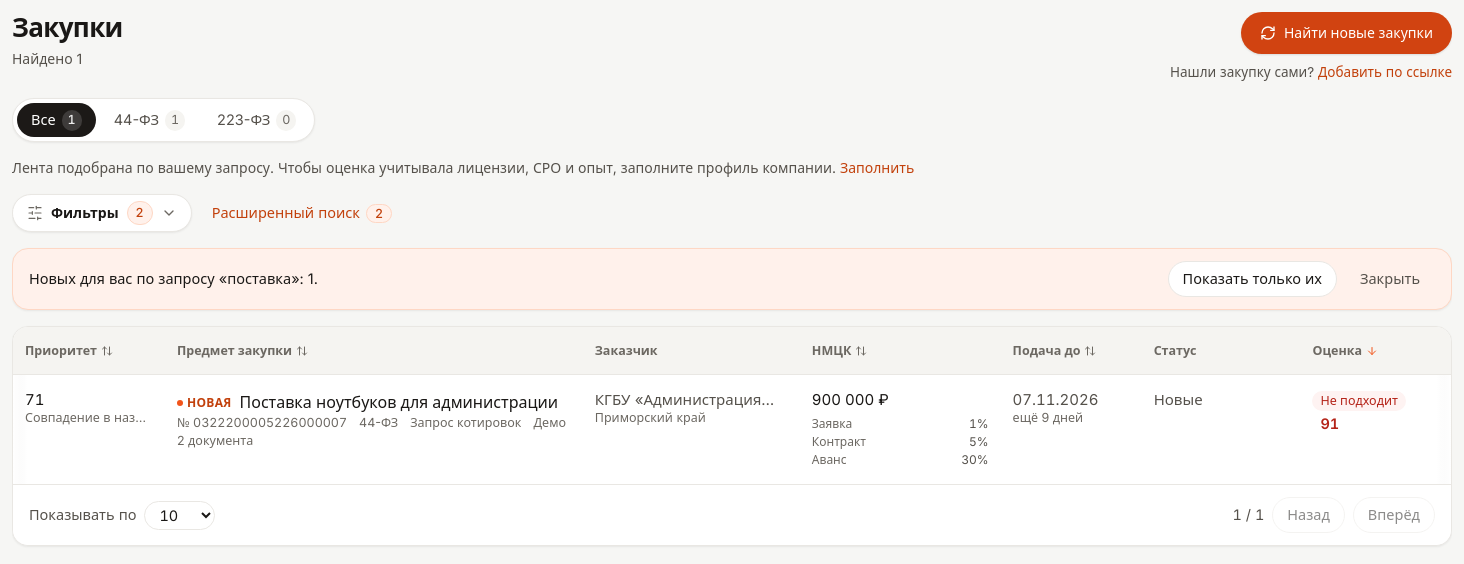
Test: TendersView — профиль поиска применяется к ленте › результат последнего поиска виден сразу и первым, но только в регионе профиля
Check: the message with test id "last-search-banner" shows "Новых для вас по запросу «поставка»: 1", box [29,270,318,287]
Click the button "Показать только их": coordinates (1252, 279) [1168,261,1337,297]
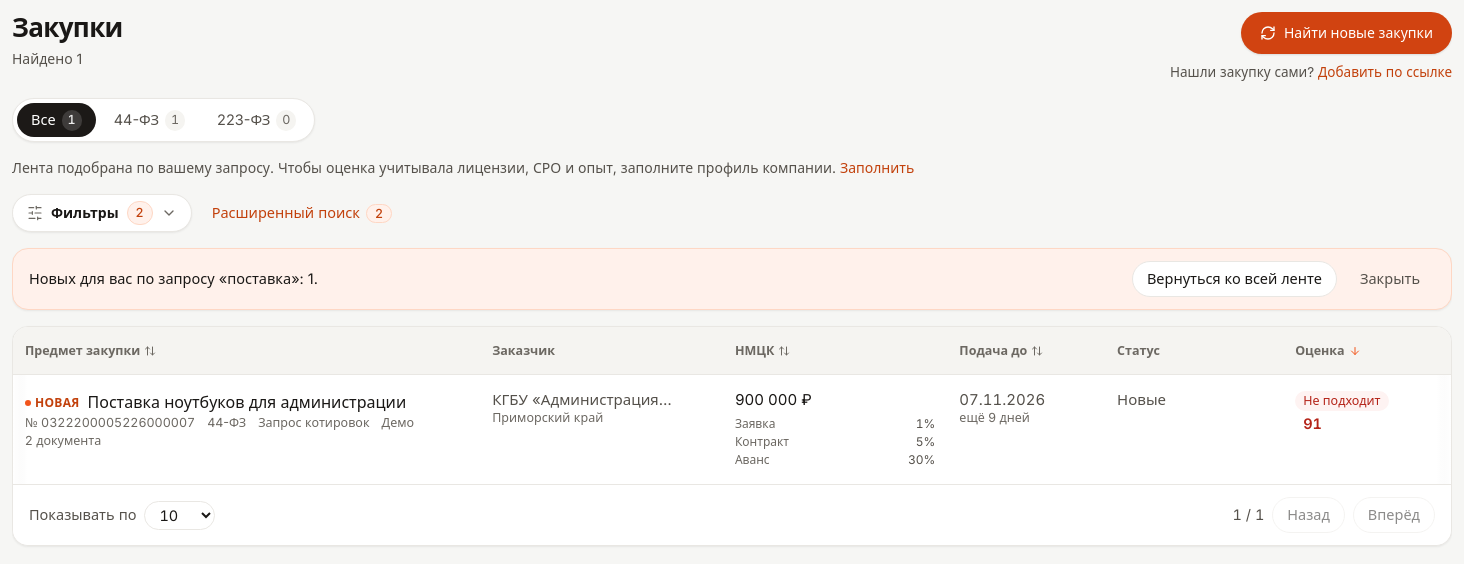
Check: the text "Найдено 1" is shown, box [12,48,82,68]
Click the button "Закрыть": coordinates (1390, 279) [1345,261,1435,297]
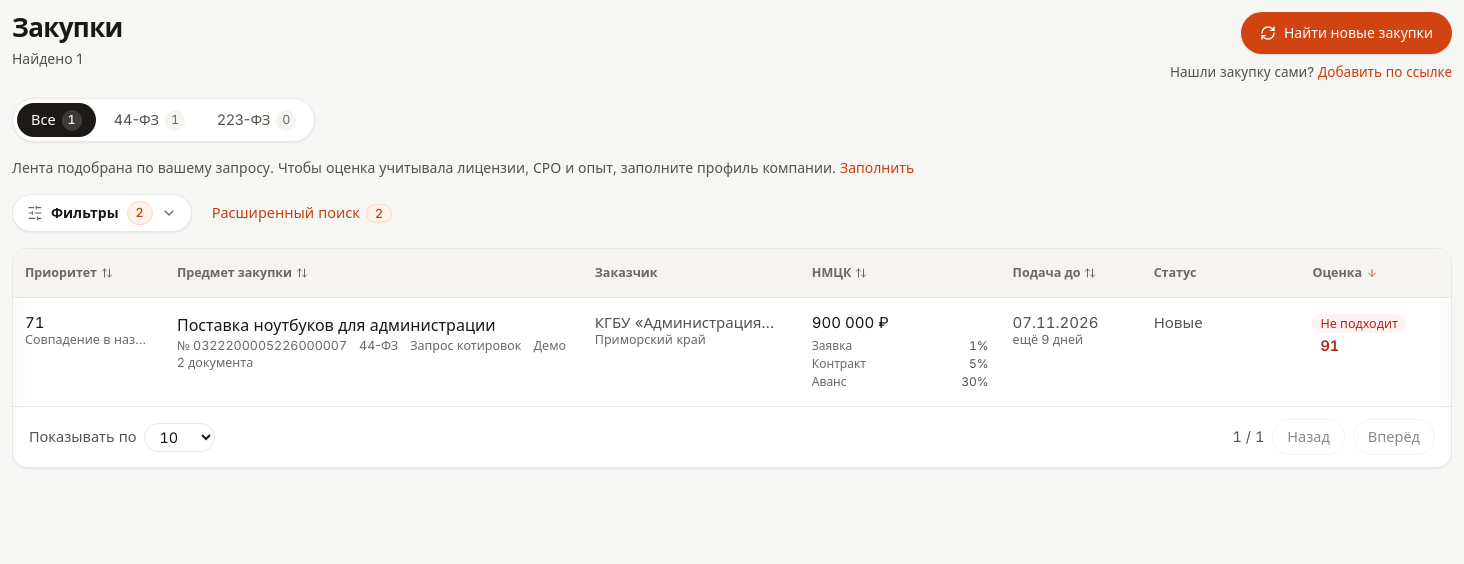
Check: the message with test id "last-search-banner" is gone
